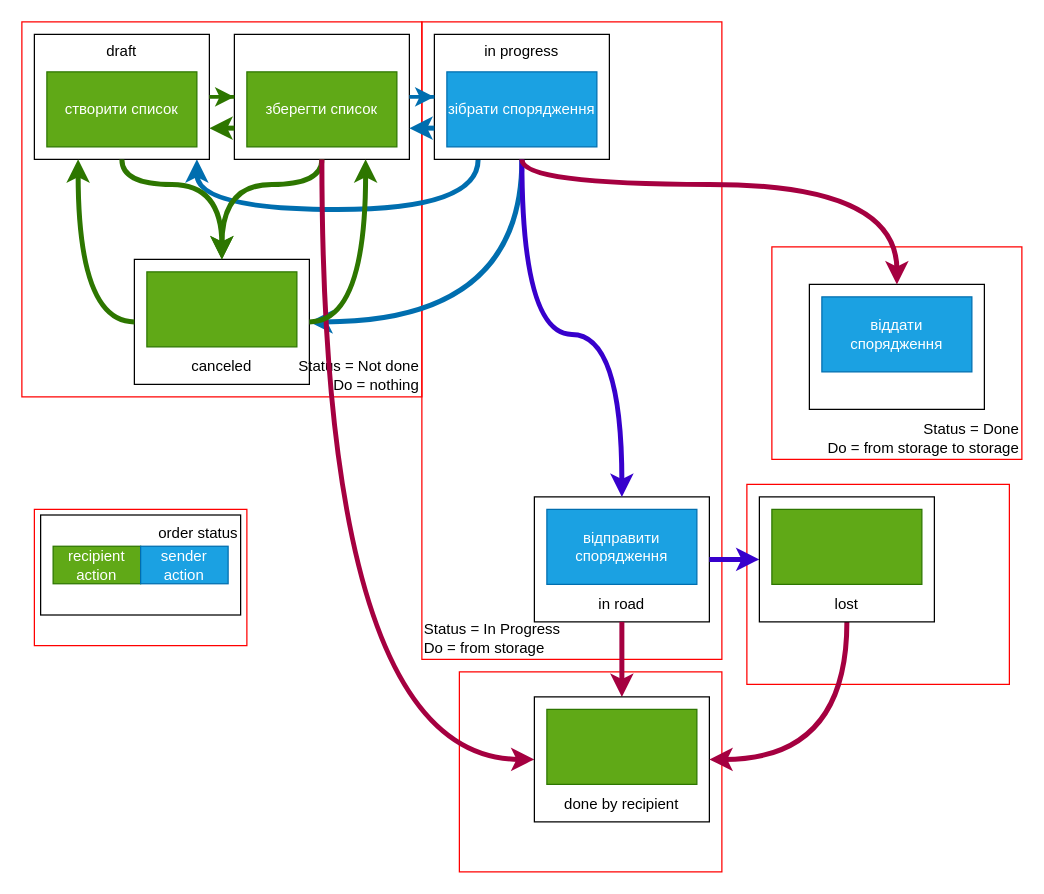
Image size: 1044x894. Some labels were removed from this diagram. The box of each missing label's shape, as (x1, y1, x2, y2) in pixels:
done by sender: (808, 283, 984, 409)
request status: (33, 508, 247, 646)
Status = Done Do = to storage: (458, 671, 722, 872)
Status = Lost Do = nothing: (746, 483, 1009, 684)
to do: (233, 33, 409, 159)
втратити спорядження: (771, 508, 922, 584)
відмінити запит: (146, 271, 297, 347)
отримати спорядження: (546, 708, 697, 784)
